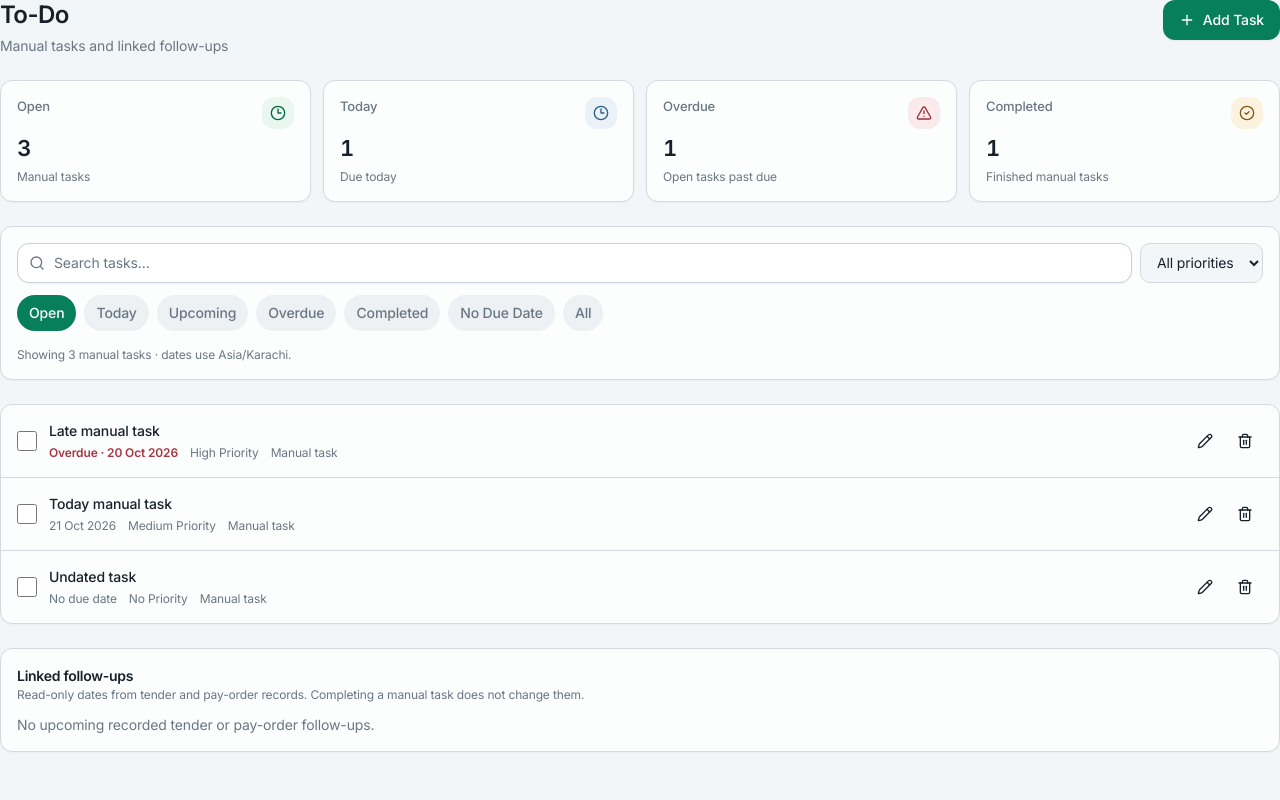
Test case: Calendar and To-Do with disposable records › tasks distinguish overdue, today, completed and undated records; edit failure preserves inputs
The image size is (1280, 800).
Step 1. Click the button "Overdue" → (296, 312), box [256, 294, 336, 330]
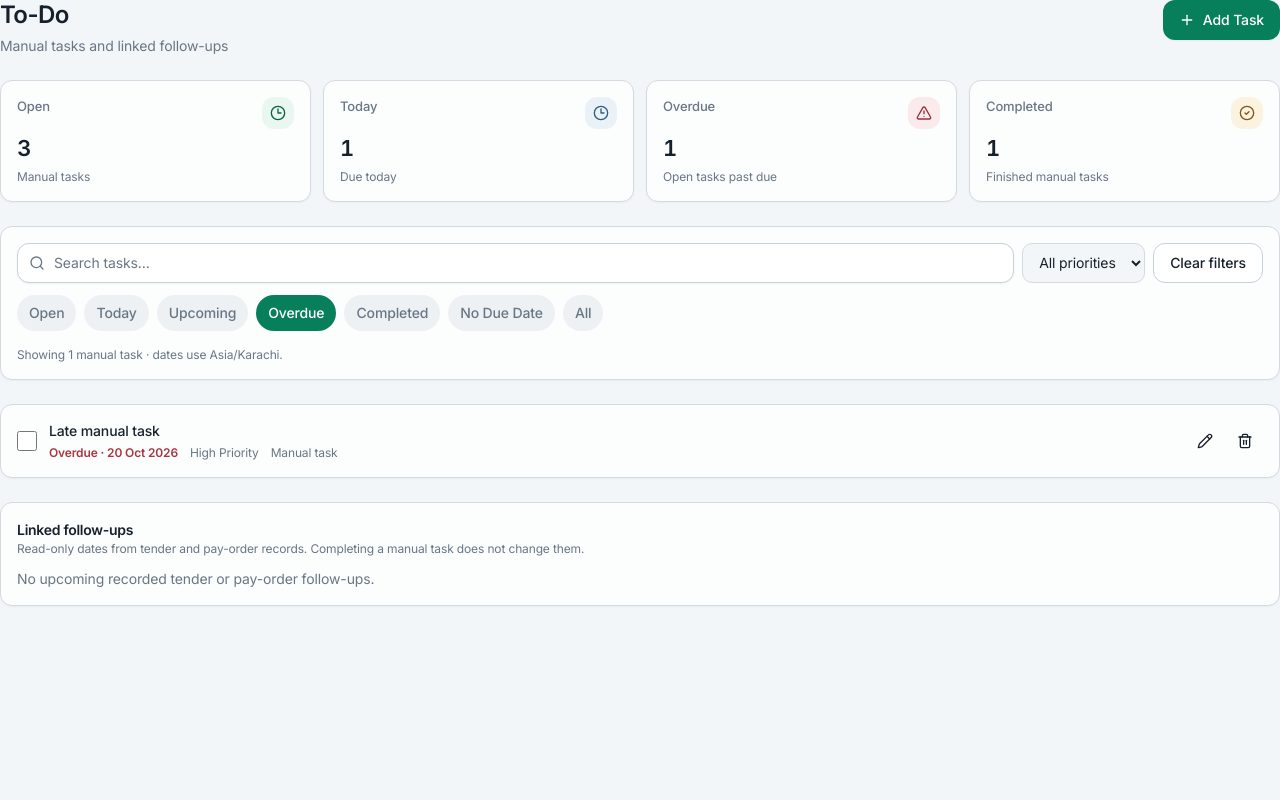
Expected: the text "Late manual task" is shown, [49, 422, 160, 438]
Step 2. Click the button "No Due Date" → (502, 312), box [448, 294, 555, 330]
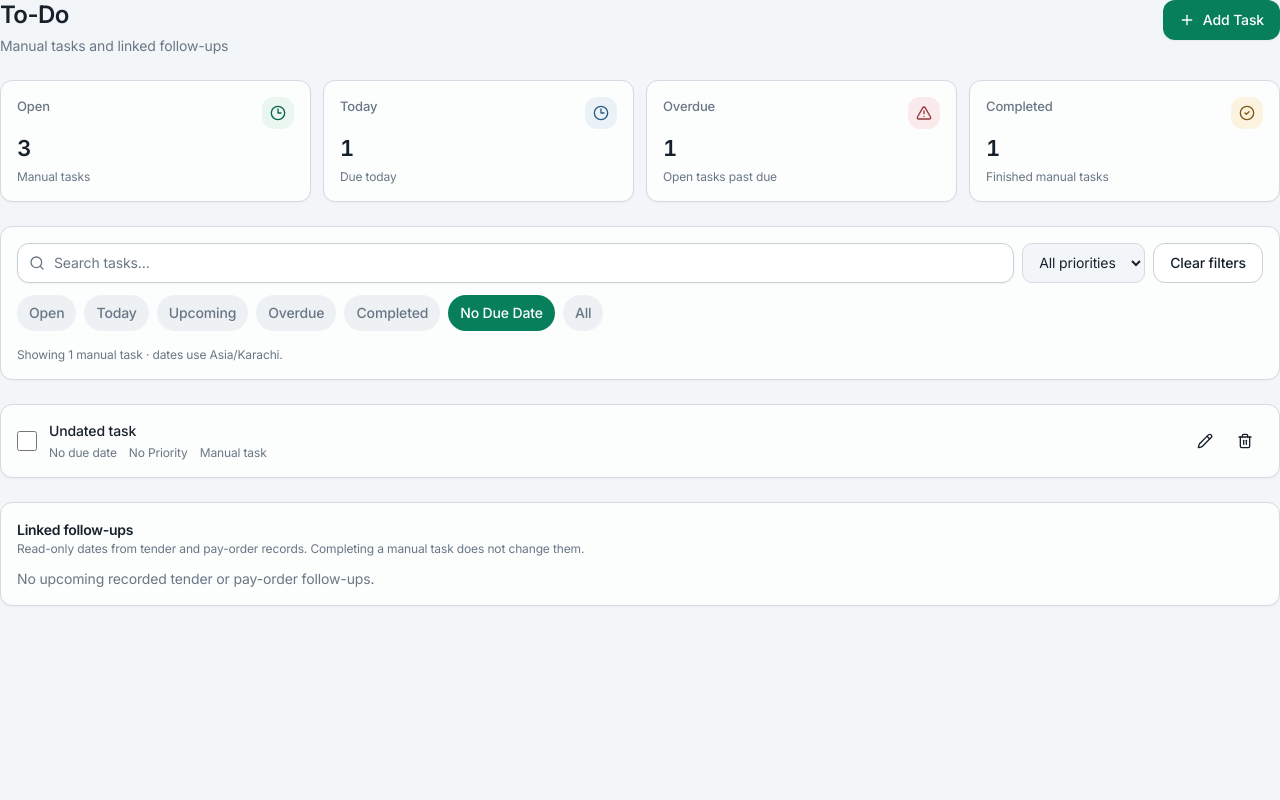
Now the text "Undated task" is shown, box [49, 422, 136, 438]
Step 3. Click the button "Today" → (117, 312), box [84, 294, 149, 330]
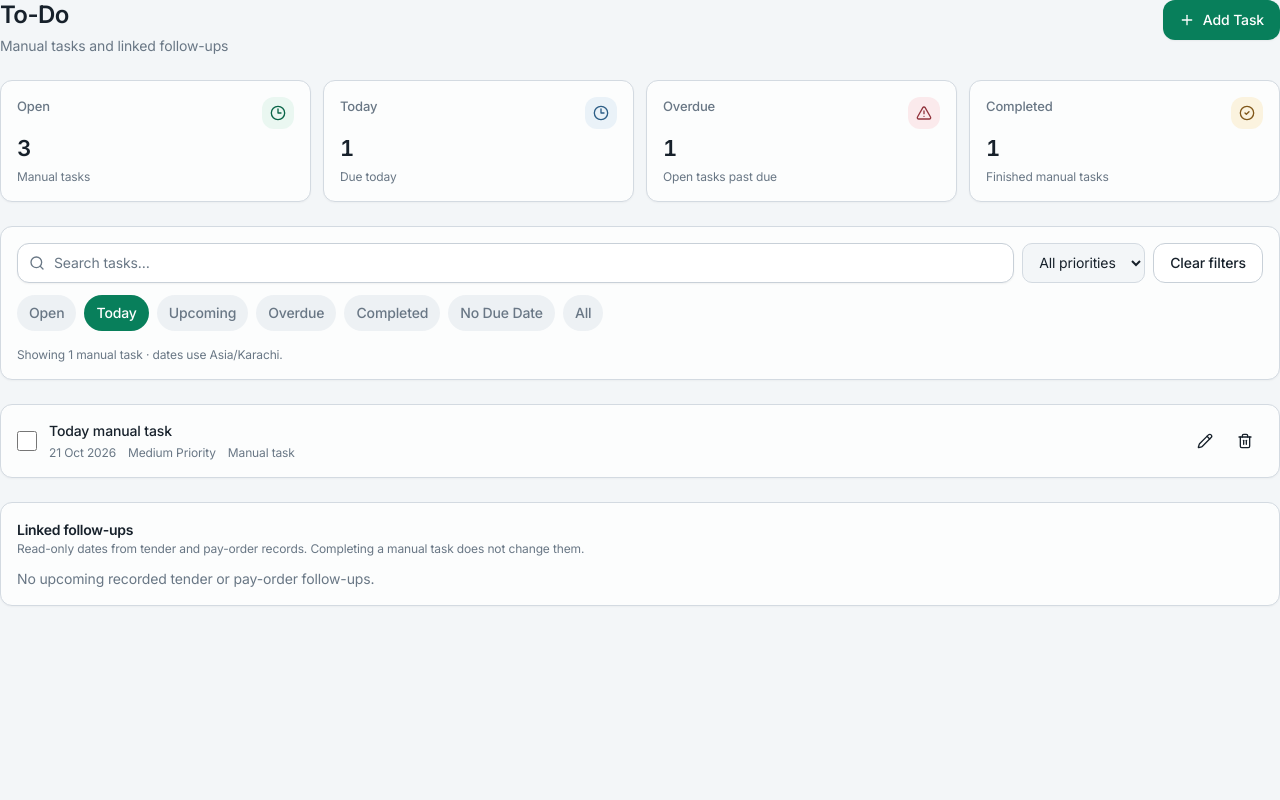
Now the text "Today manual task" is shown, box [49, 422, 172, 438]
Step 4. Click the button named "Edit Today manual task" → (1205, 440), box [1187, 422, 1223, 458]
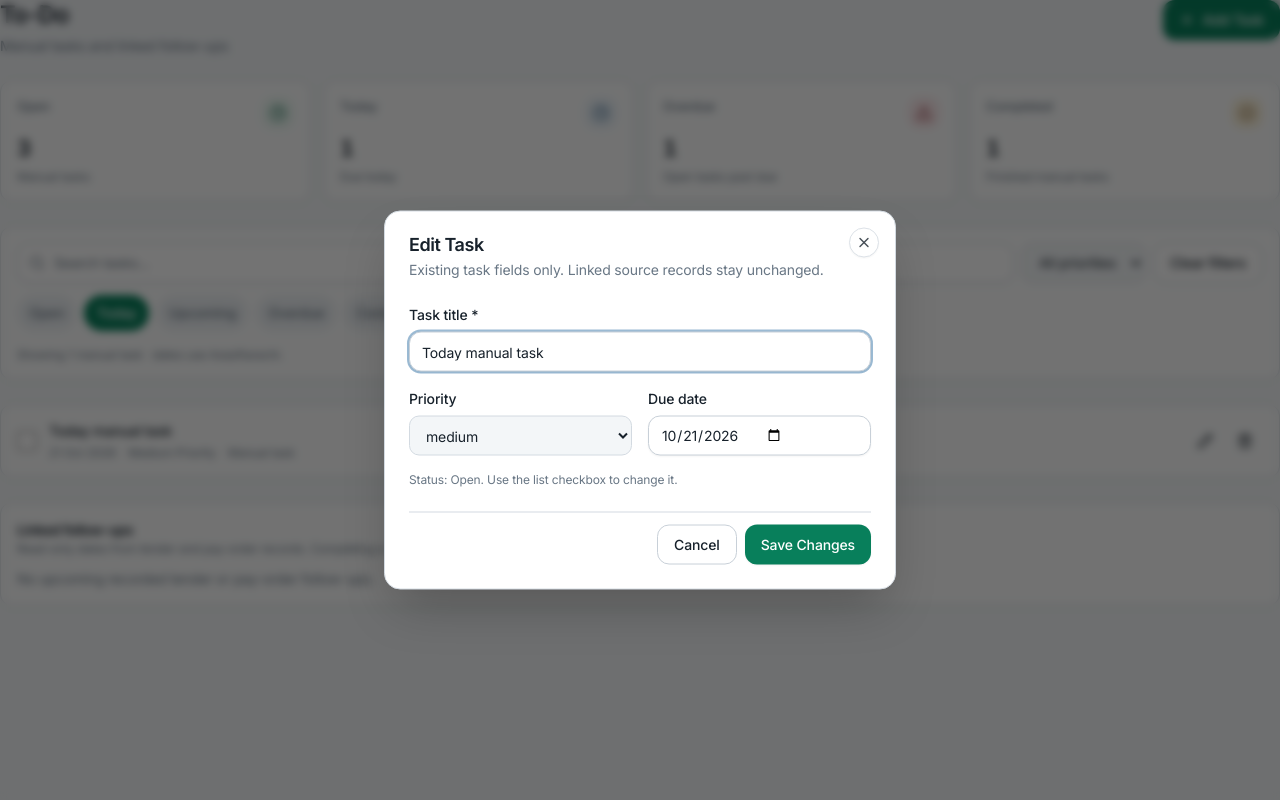
Step 5. Replace the text in the field labelled "Task title *" with "Changed synthetic task" → (640, 352), box [409, 332, 871, 372]
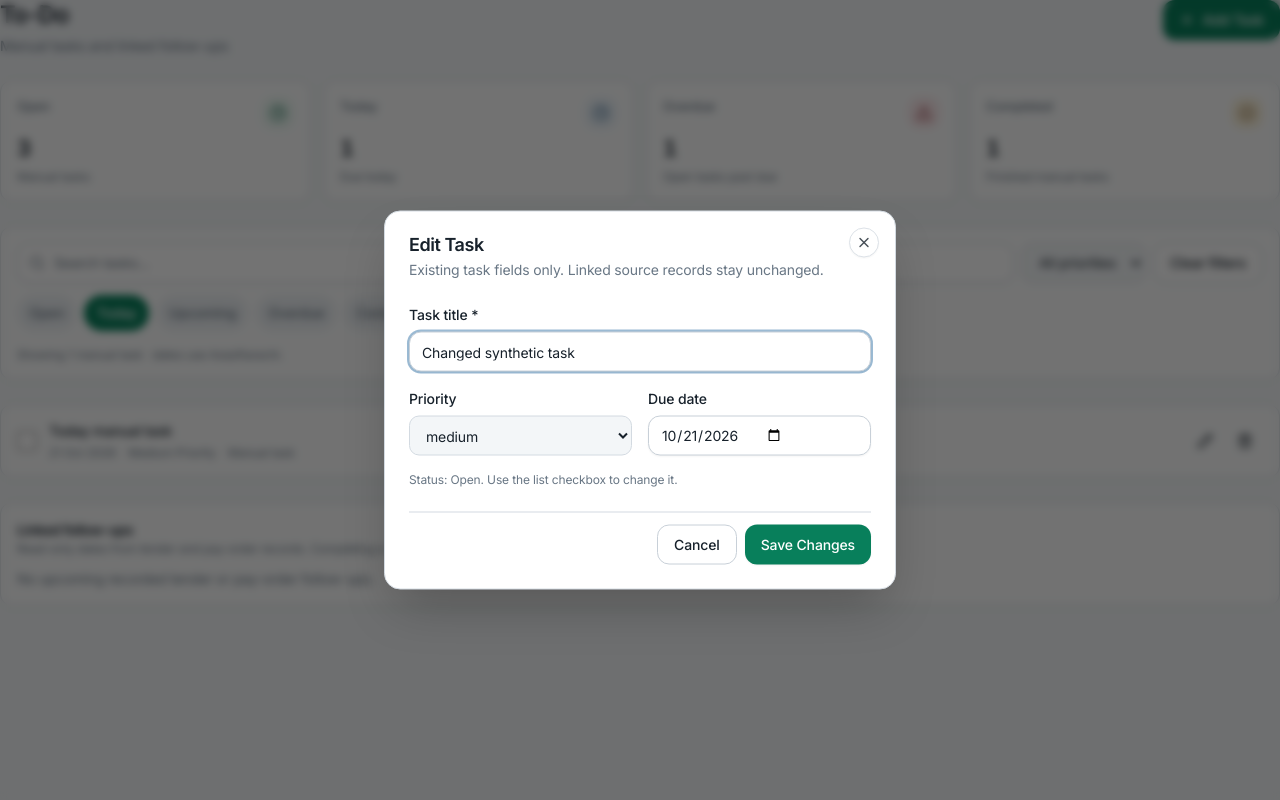
Step 6. Click the button "Save Changes" → (808, 544), box [745, 524, 871, 564]
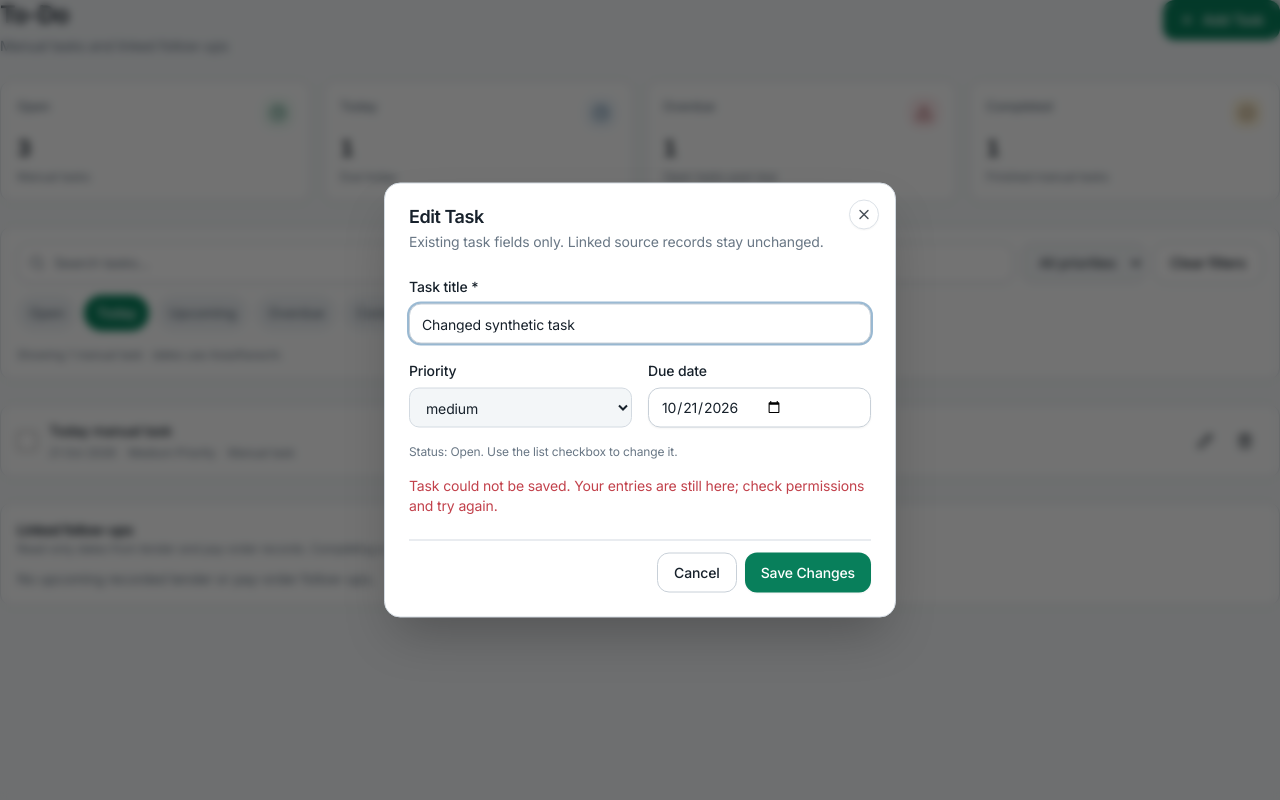
Now the message shows "could not be saved", box [409, 476, 864, 514]
